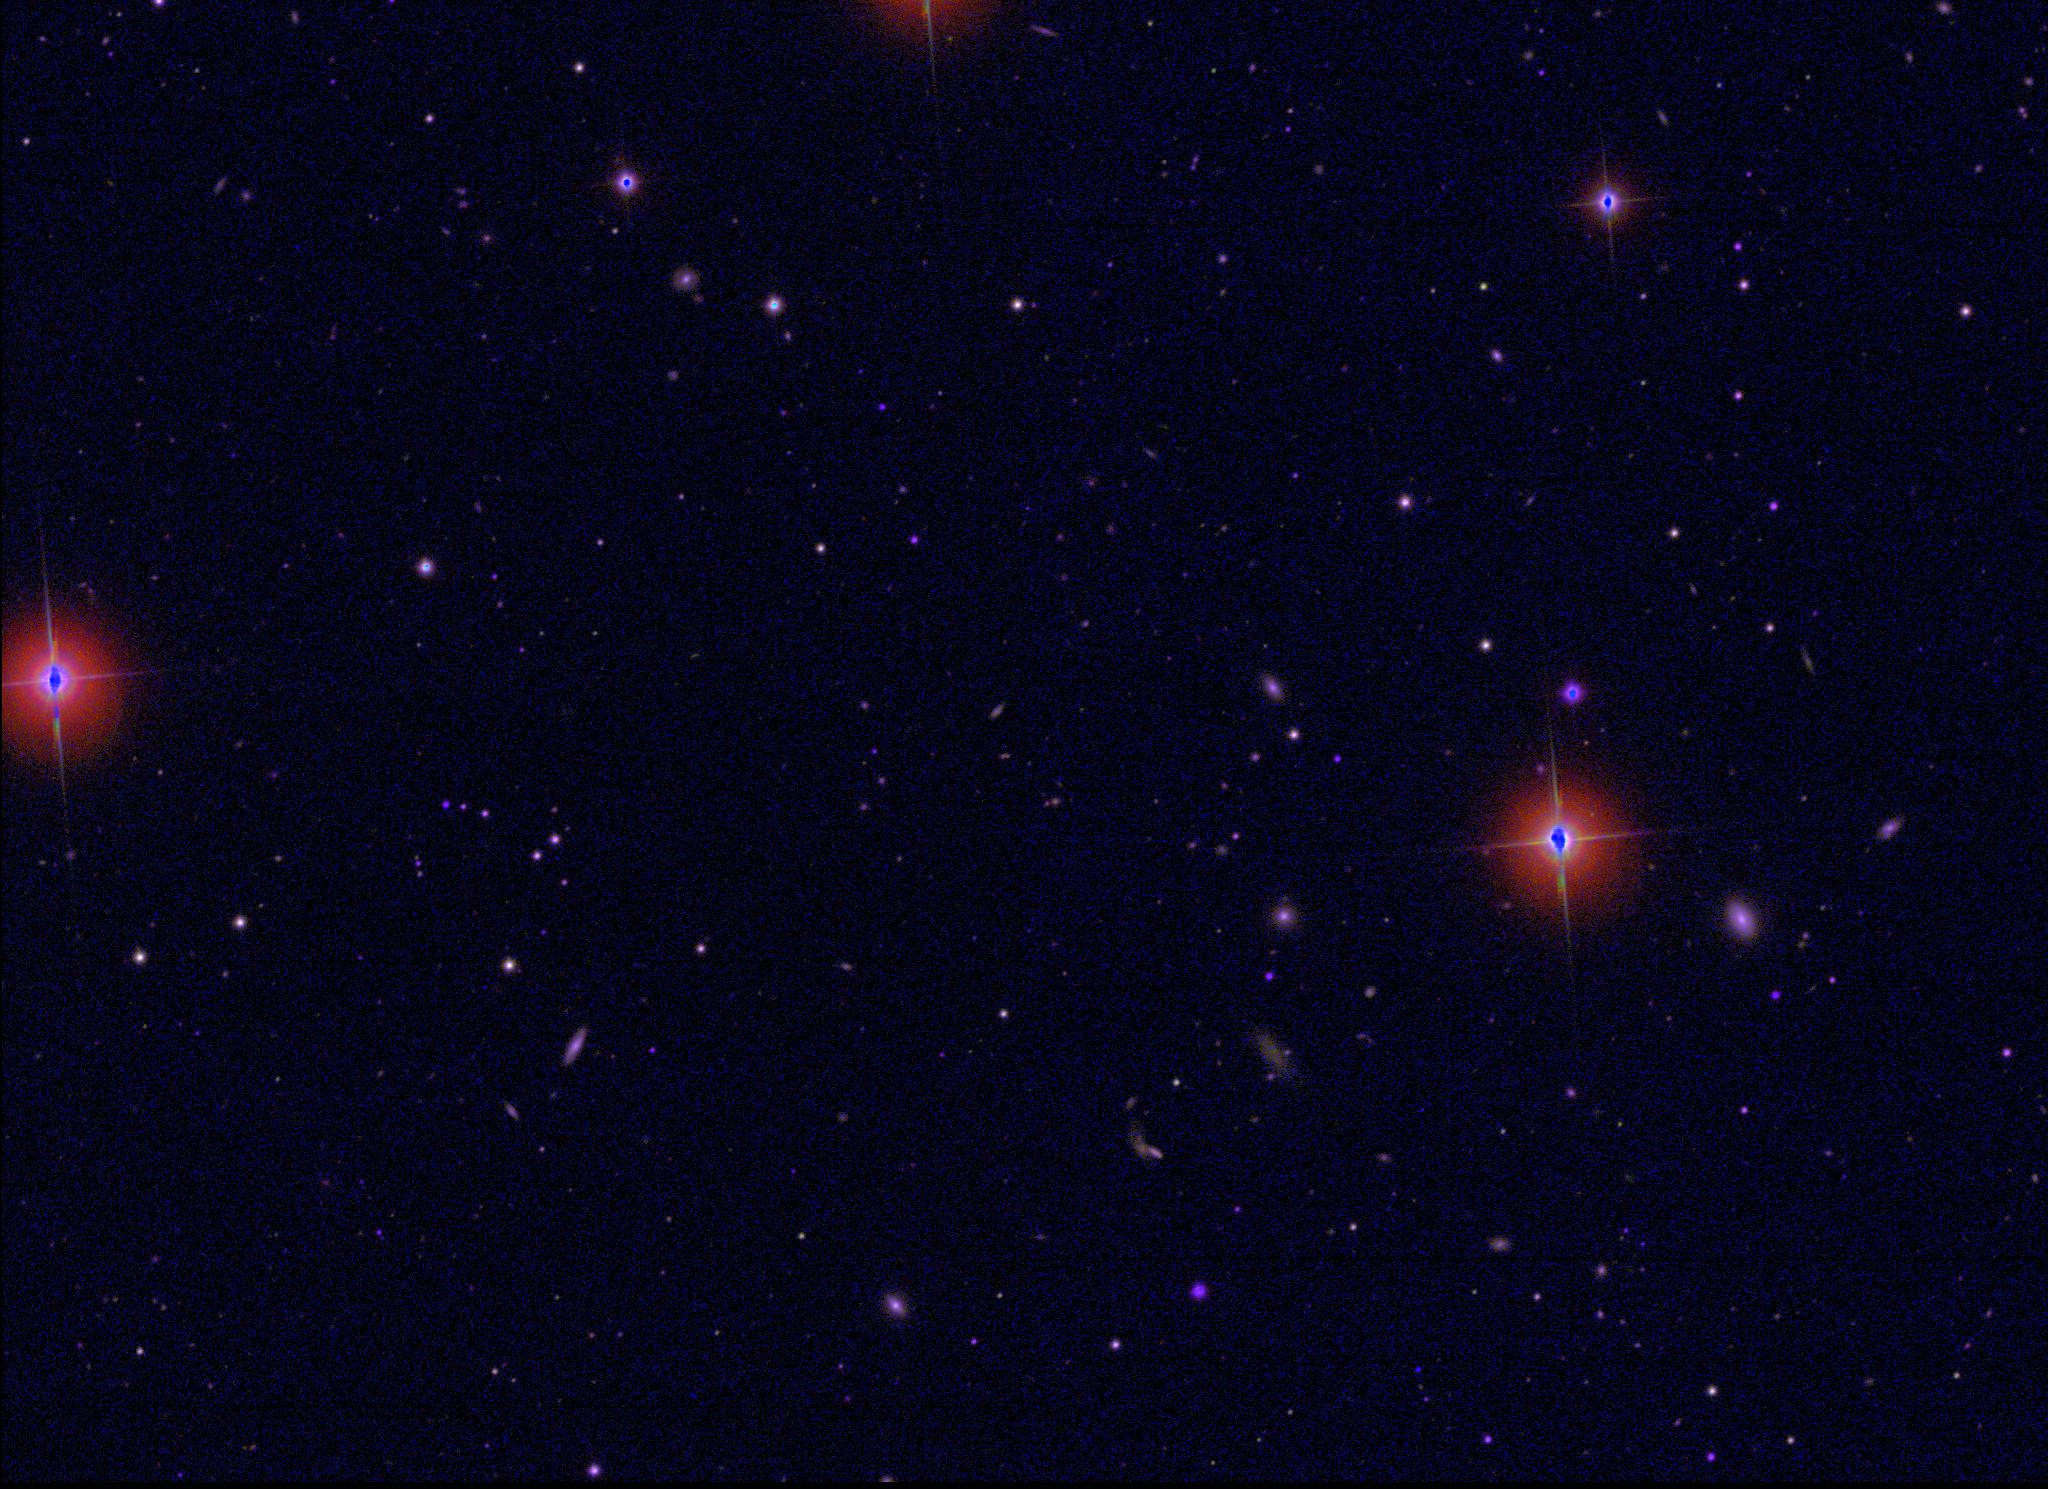L: (1410, 1363, 1425, 1378)
